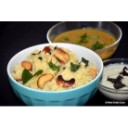venpongal: (21, 50, 88, 85)
